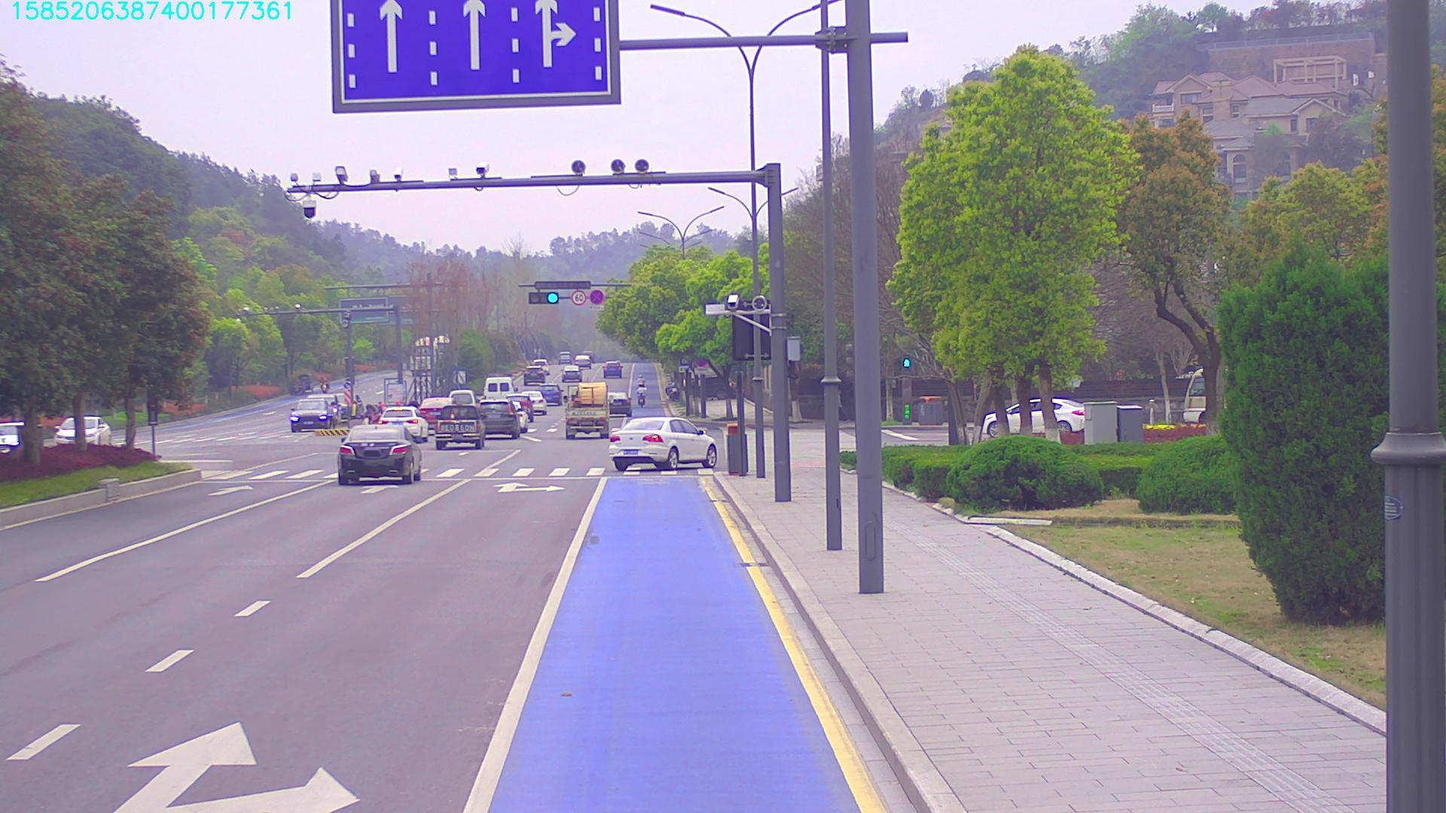green: (529, 291, 559, 303)
